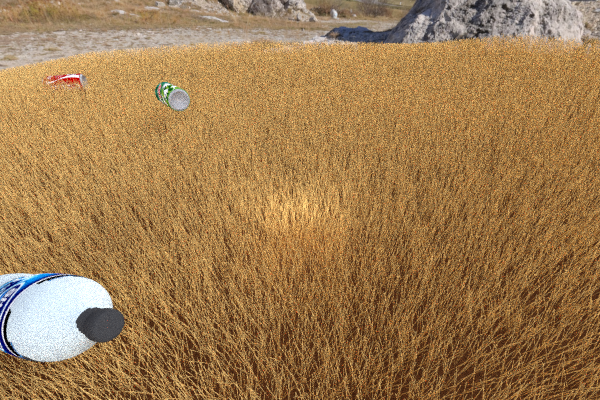Plastic Bottle: (0, 270, 123, 357), (451, 71, 506, 103), (381, 57, 412, 85)
